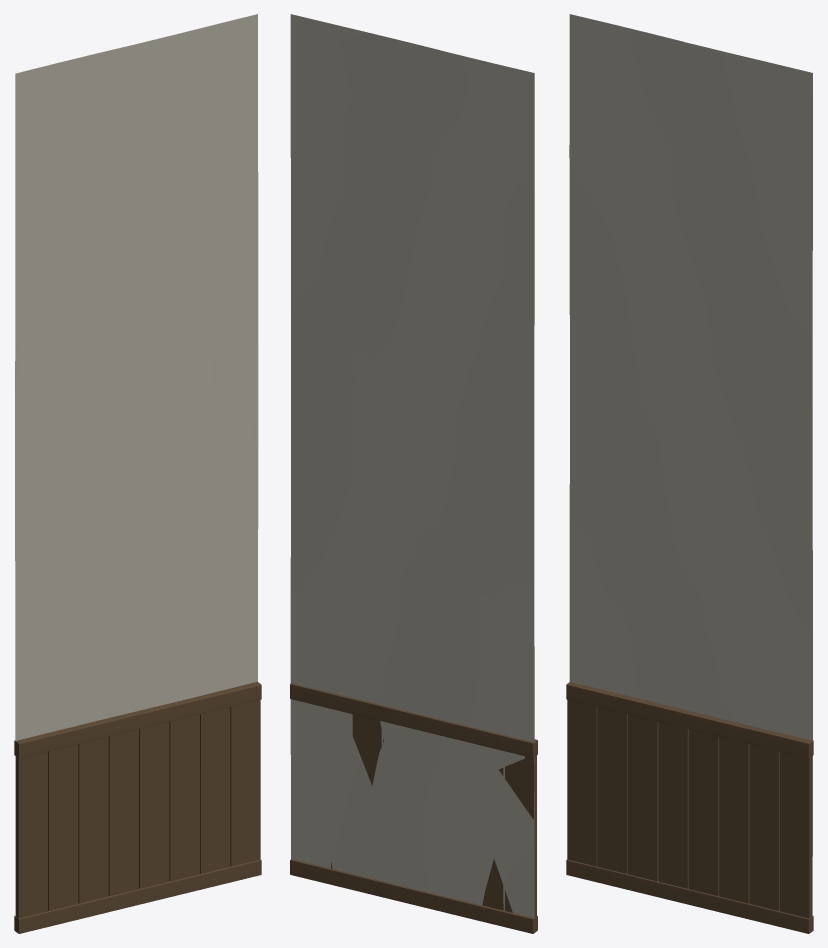
The model's file is plaster-wall-lod0.fbx.
3 renders of one model, left to right at view 1: azimuth 30°, elevation 25°; view 2: azimuth 150°, elevation 25°; view 3: azimuth 330°, elevation 25°, orthographic.
Visible parts, largest first — view 1: Undulating lime plaster, Classroom wainscot board.001, Classroom wainscot board.003, Classroom wainscot board.007, Classroom wainscot board, Classroom wainscot board.002, Classroom wainscot board.004, Classroom wainscot board.005, Classroom wainscot board.006, Classroom wainscot rail, Classroom wainscot rail.001; view 2: Undulating lime plaster, Classroom wainscot rail, Classroom wainscot rail.001, Classroom wainscot board.001, Classroom wainscot board.006, Classroom wainscot board.002; view 3: Undulating lime plaster, Classroom wainscot board, Classroom wainscot board.006, Classroom wainscot board.001, Classroom wainscot board.002, Classroom wainscot board.003, Classroom wainscot board.004, Classroom wainscot board.005, Classroom wainscot board.007, Classroom wainscot rail, Classroom wainscot rail.001.
Part boxes in pixels (box(x1,y1,x2,y2)): Undulating lime plaster: box(15, 14, 258, 916); Classroom wainscot board.001: box(16, 751, 47, 918); Classroom wainscot board.003: box(78, 737, 108, 903); Classroom wainscot board.007: box(200, 707, 230, 873); Classroom wainscot board: box(230, 699, 260, 866); Classroom wainscot board.002: box(48, 744, 78, 910); Classroom wainscot board.004: box(108, 729, 138, 896); Classroom wainscot board.005: box(139, 722, 169, 888); Classroom wainscot board.006: box(169, 714, 199, 881); Classroom wainscot rail: box(14, 681, 261, 758); Classroom wainscot rail.001: box(14, 859, 261, 933); Undulating lime plaster: box(290, 14, 534, 918); Classroom wainscot rail: box(290, 683, 537, 757); Classroom wainscot rail.001: box(290, 859, 537, 933); Classroom wainscot board.001: box(505, 756, 536, 917); Classroom wainscot board.006: box(352, 714, 381, 785); Classroom wainscot board.002: box(482, 768, 503, 910); Undulating lime plaster: box(569, 14, 812, 916); Classroom wainscot board: box(780, 751, 811, 918); Classroom wainscot board.006: box(719, 736, 749, 903); Classroom wainscot board.001: box(567, 699, 597, 866); Classroom wainscot board.002: box(597, 707, 627, 873); Classroom wainscot board.003: box(628, 714, 658, 881); Classroom wainscot board.004: box(658, 722, 688, 888); Classroom wainscot board.005: box(689, 729, 719, 895); Classroom wainscot board.007: box(749, 744, 779, 910); Classroom wainscot rail: box(566, 682, 813, 758); Classroom wainscot rail.001: box(566, 859, 813, 933).
Bounding box in the file's own units: 100 × 338 × 3.5.
